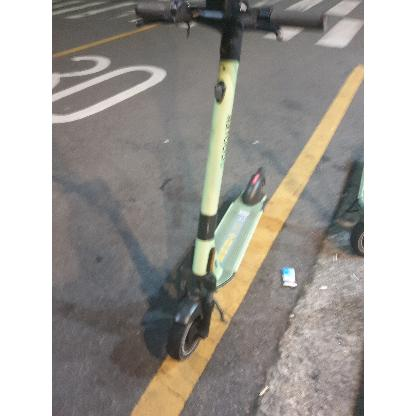bike: (143, 167, 269, 361)
